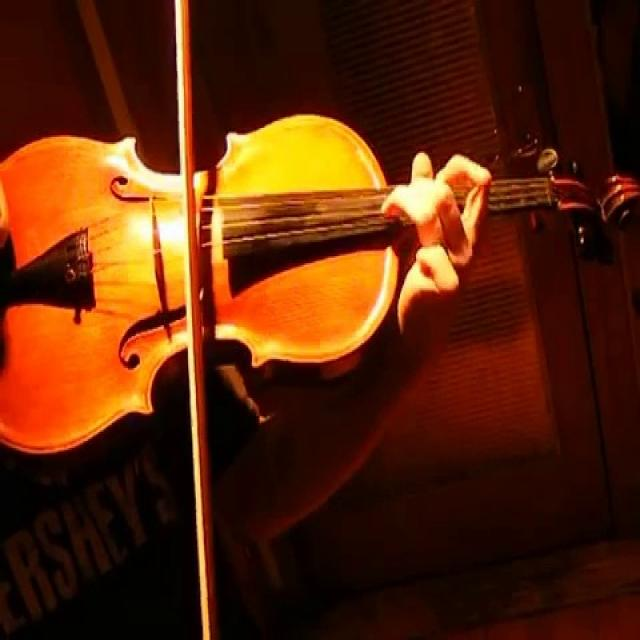Violin: (4, 117, 640, 444)
